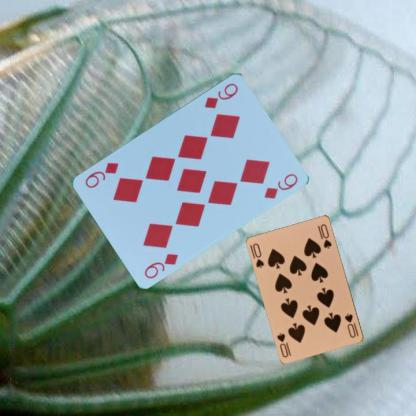10s: (342, 311, 360, 339), (250, 241, 266, 269)
9d: (201, 80, 239, 110), (142, 250, 180, 280)
